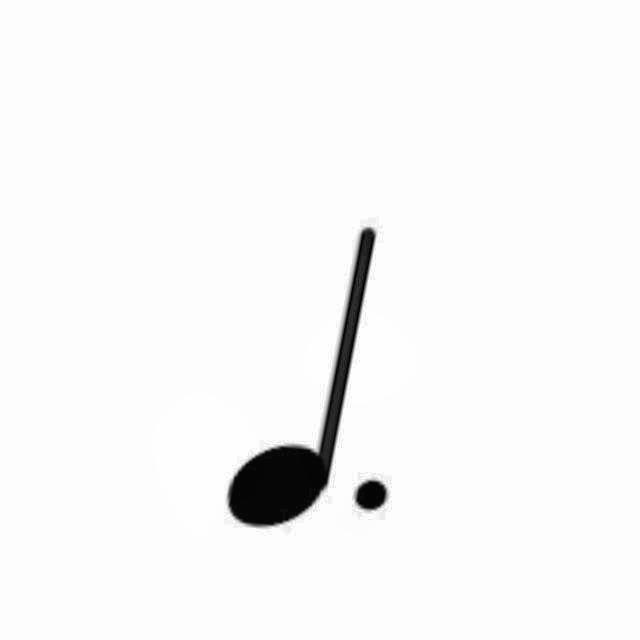Quarter-dot: (200, 218, 434, 544)
